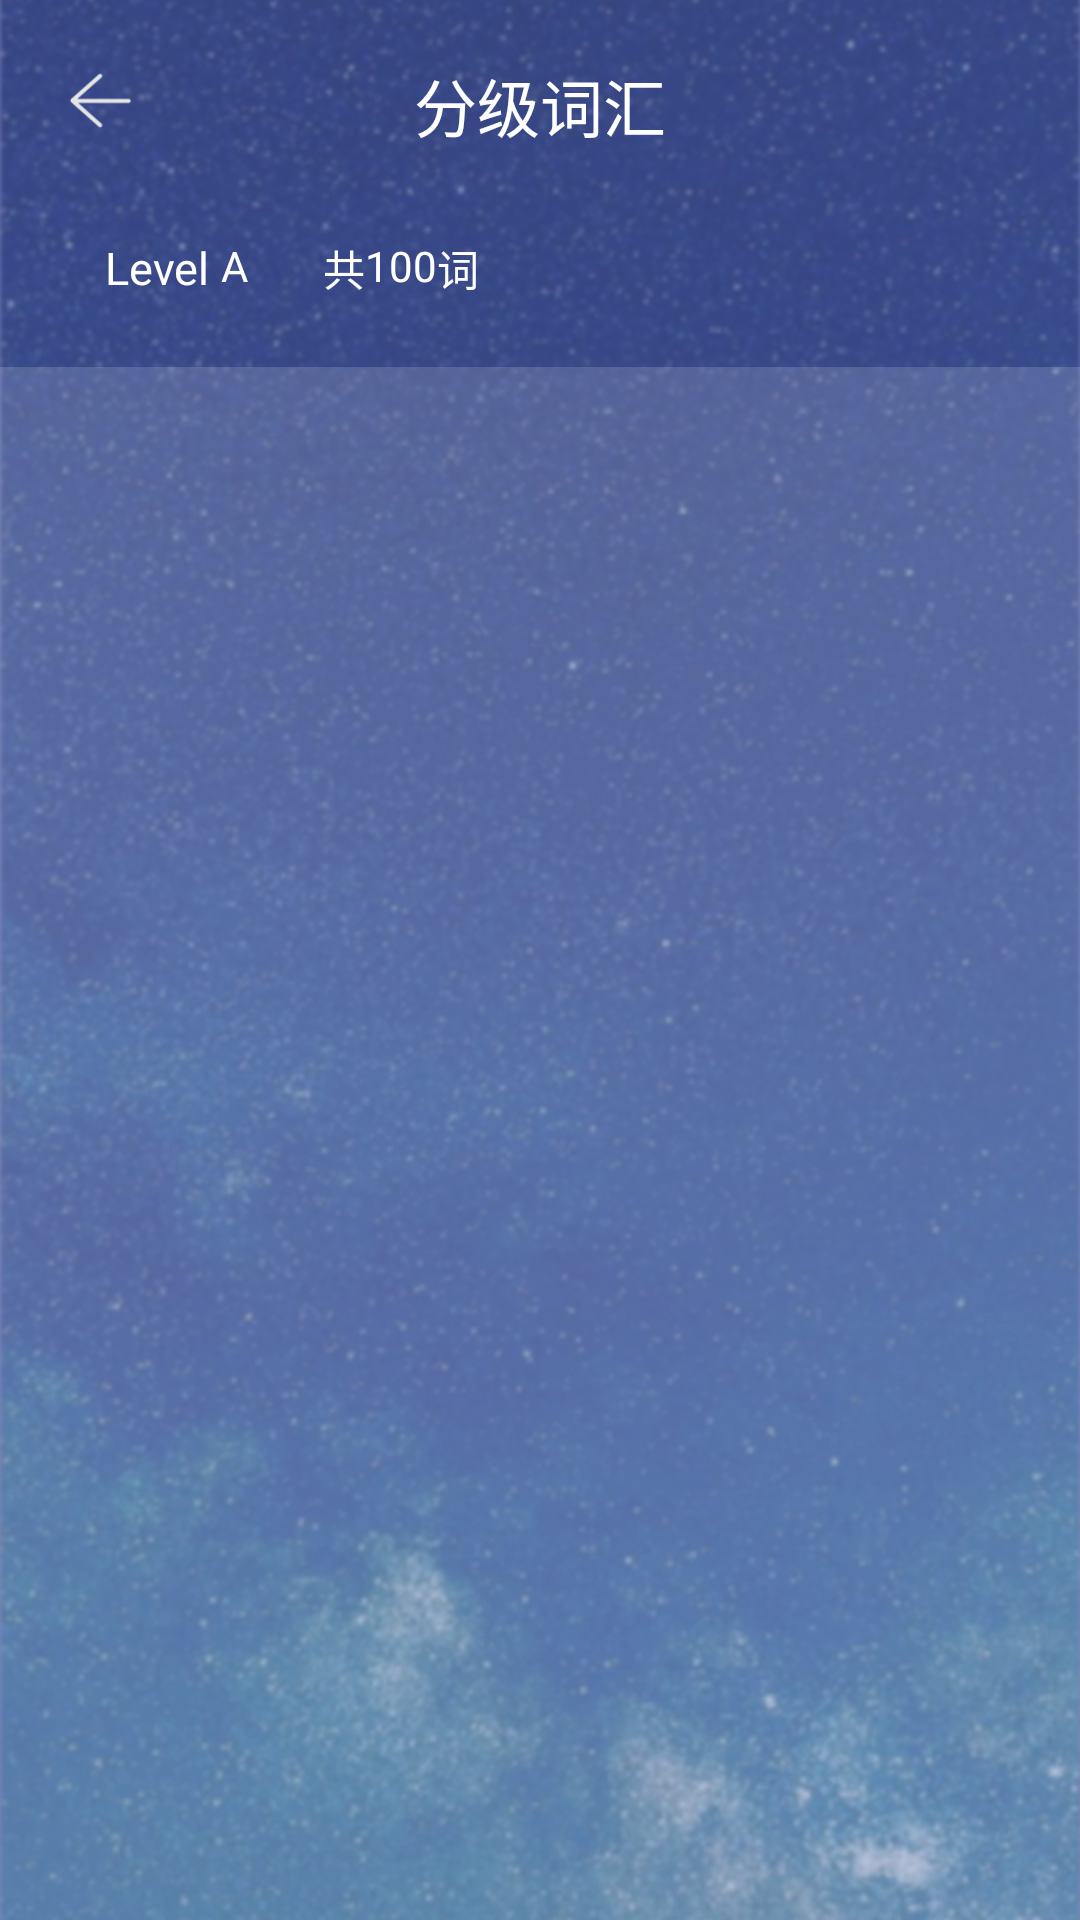

Where to tap for icons on this 1080w x 1920h app screen, as point (x, y):
back: point (100, 100)
